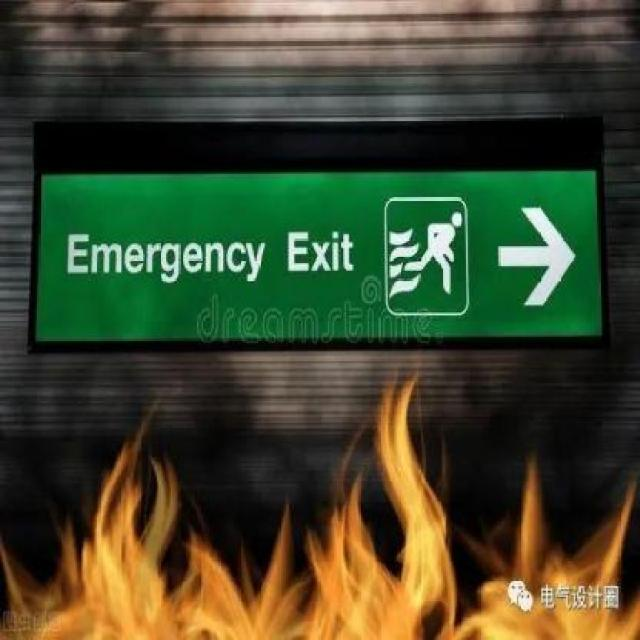exit_sign: (17, 104, 611, 373)
